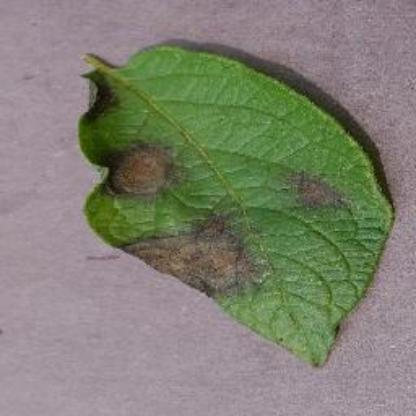Late-Blight: (73, 11, 411, 388)
